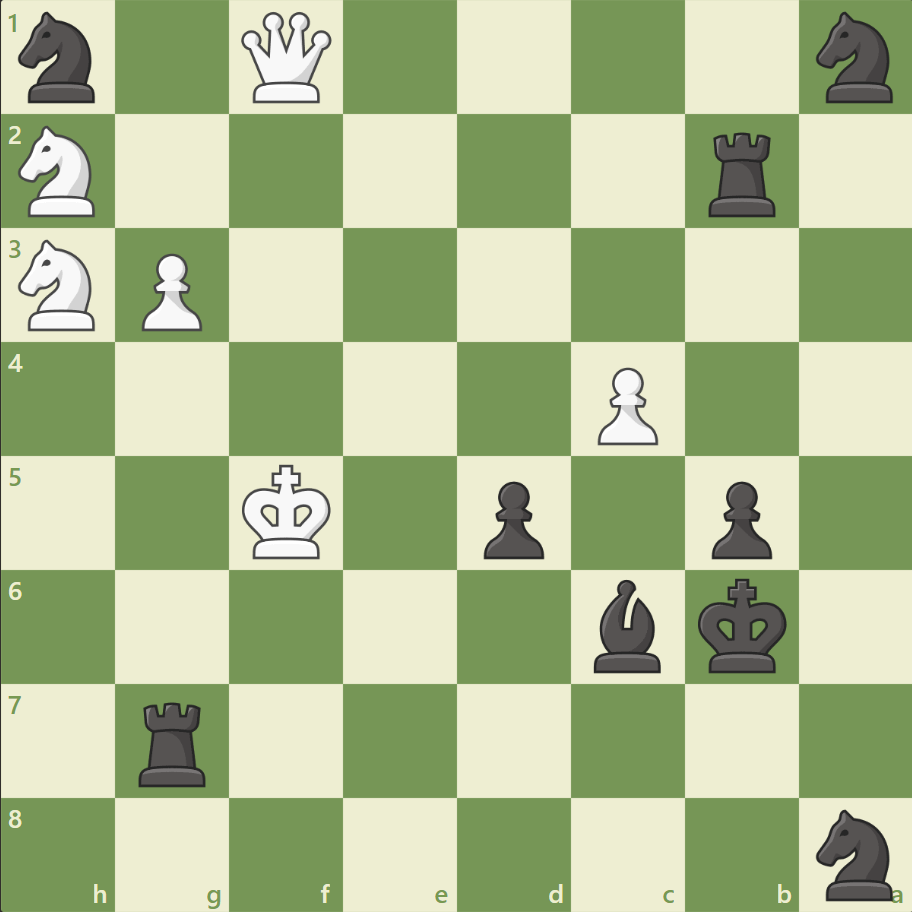K: (238, 458, 338, 566)
N: (11, 234, 108, 337), (11, 121, 108, 223)
P: (133, 246, 208, 337), (588, 359, 662, 450)
Q: (237, 9, 336, 108)
b: (585, 574, 669, 676)
k: (692, 571, 792, 679)
n: (806, 7, 903, 110), (11, 7, 108, 110), (806, 802, 903, 904)
p: (701, 473, 776, 564), (474, 473, 549, 564)
r: (700, 125, 783, 222), (133, 693, 215, 790)
